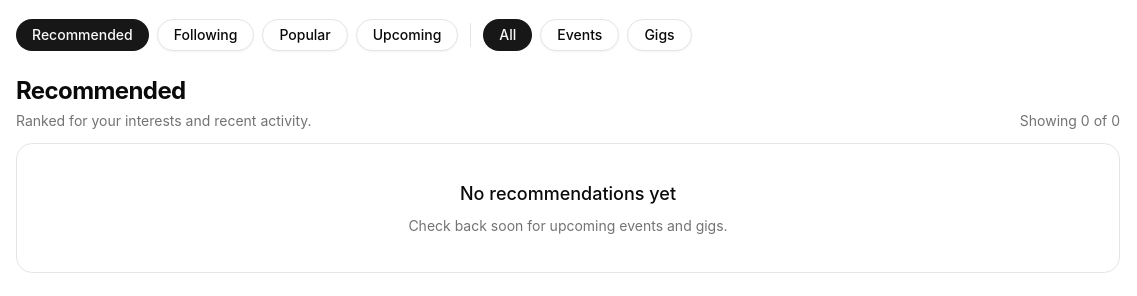
Test: [phase:6] [regression:always] FeaturedPage › TC-SFEED-015: shows followed-user activity inside the Featured Following section
This screenshot has width=1137, height=296.
Click the tab "Following" at x=206, y=35, box [157, 19, 254, 51]
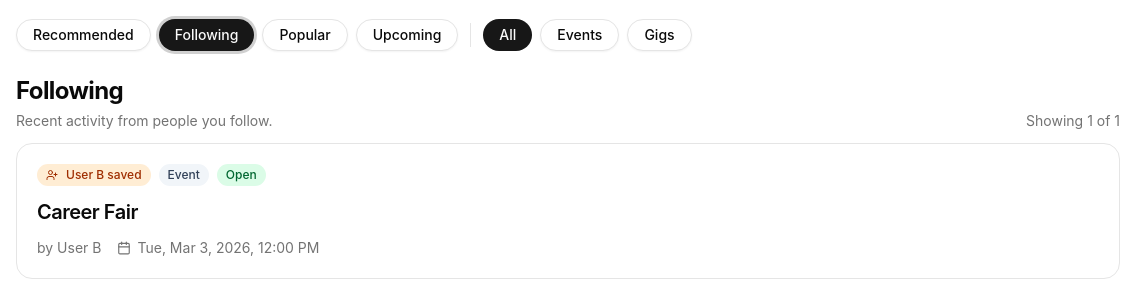
Expected: the link "Career Fair" is shown, [37, 200, 138, 224]
Expected: the text "User B saved" is shown, [37, 164, 151, 186]
